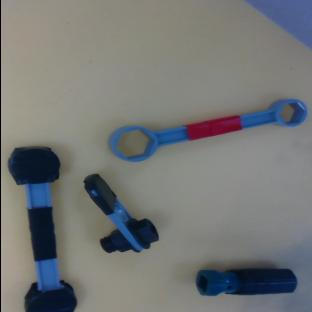part_1_bad: (79, 161, 160, 262)
part_2_bad: (195, 268, 295, 296)
part_3_bad: (5, 143, 76, 312)
part_3_good: (104, 87, 308, 167)
